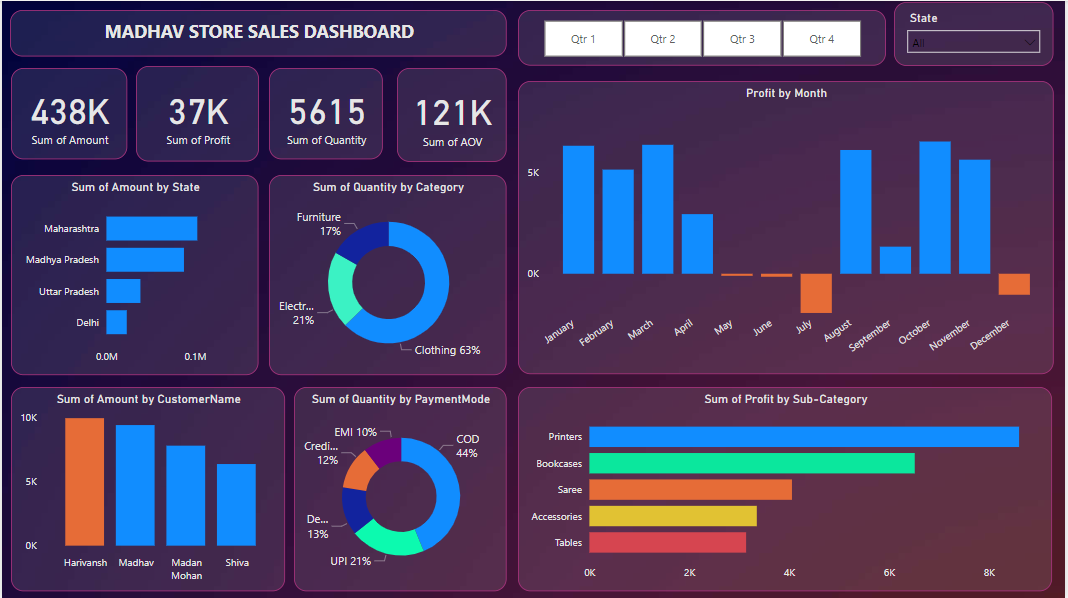

What the dashboard file says about the page in this screenshot:
{"tool":"powerbi","page":{"name":"Dashboard","canvas":[1280,720],"ordinal":0},"visuals":[{"type":"textbox","box":[9.6,11,598.1,56.4],"z":0},{"type":"columnChart","title":"Profit by Month","fields":{"Category":["Orders.Order Date.Variation.Date Hierarchy.Month"],"Y":["Sum(Details.Profit)"]},"box":[621.4,96.2,644.8,353.3],"z":1000},{"type":"clusteredBarChart","fields":{"Category":["Details.Sub-Category"],"Y":["Sum(Details.Profit)"]},"box":[621.4,464.7,643.4,246.1],"z":2000},{"type":"donutChart","fields":{"Category":["Details.Category"],"Y":["Sum(Details.Quantity)"]},"box":[321.7,209,286,240.6],"z":3000},{"type":"donutChart","fields":{"Y":["Sum(Details.Quantity)"],"Category":["Details.PaymentMode"]},"box":[352,464.7,255.7,246.1],"z":4000},{"type":"card","fields":{"Values":["Sum(Details.Amount)"]},"box":[11,81.1,140.2,110],"z":5000},{"type":"card","fields":{"Values":["Sum(Details.Quantity)"]},"box":[321.7,81.1,137.5,110],"z":6000},{"type":"card","fields":{"Values":["Sum(Details.Profit)"]},"box":[160.9,78.4,148.5,115.5],"z":7000},{"type":"card","fields":{"Values":["Sum(Details.AOV)"]},"box":[475.7,81.1,132,112.7],"z":8000},{"type":"clusteredBarChart","fields":{"Category":["Orders.State"],"Y":["Sum(Details.Amount)"]},"box":[11,209,298.3,240.6],"z":9000},{"type":"columnChart","fields":{"Category":["Orders.CustomerName"],"Y":["Sum(Details.Amount)"]},"box":[11,464.7,330,246.1],"z":10000},{"type":"slicer","fields":{"Values":["Orders.Order Date.Variation.Date Hierarchy.Quarter"]},"box":[621.4,11,442.7,67.4],"z":11000},{"type":"slicer","fields":{"Values":["Orders.State"]},"box":[1073.8,1.4,192.5,77],"z":12000}]}

Visuals, with their boxes in screenshot pixels (x1, y1, x2, y2), scaled from the page's 1280x720 canvas onto the 1068x598 screenshot:
textbox: pyautogui.locateOnScreen(8, 9, 507, 56)
"Profit by Month" columnChart: pyautogui.locateOnScreen(518, 80, 1056, 373)
clusteredBarChart - Details.Sub-Category x Sum(Details.Profit): pyautogui.locateOnScreen(518, 386, 1055, 590)
donutChart - Details.Category x Sum(Details.Quantity): pyautogui.locateOnScreen(268, 174, 507, 373)
donutChart - Sum(Details.Quantity) x Details.PaymentMode: pyautogui.locateOnScreen(294, 386, 507, 590)
card - Sum(Details.Amount): pyautogui.locateOnScreen(9, 67, 126, 159)
card - Sum(Details.Quantity): pyautogui.locateOnScreen(268, 67, 383, 159)
card - Sum(Details.Profit): pyautogui.locateOnScreen(134, 65, 258, 161)
card - Sum(Details.AOV): pyautogui.locateOnScreen(397, 67, 507, 161)
clusteredBarChart - Orders.State x Sum(Details.Amount): pyautogui.locateOnScreen(9, 174, 258, 373)
columnChart - Orders.CustomerName x Sum(Details.Amount): pyautogui.locateOnScreen(9, 386, 285, 590)
slicer - Orders.Order Date.Variation.Date Hierarchy.Quarter: pyautogui.locateOnScreen(518, 9, 888, 65)
slicer - Orders.State: pyautogui.locateOnScreen(896, 1, 1057, 65)
